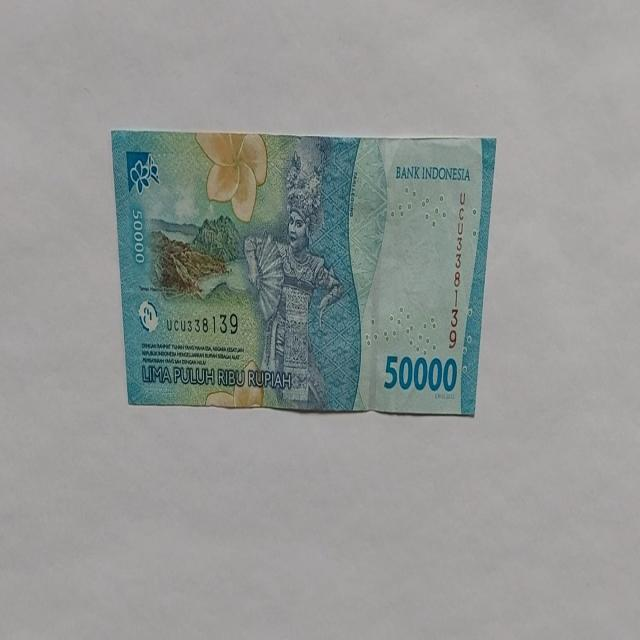lima puluh ribu rupiah: (110, 129, 497, 416)
